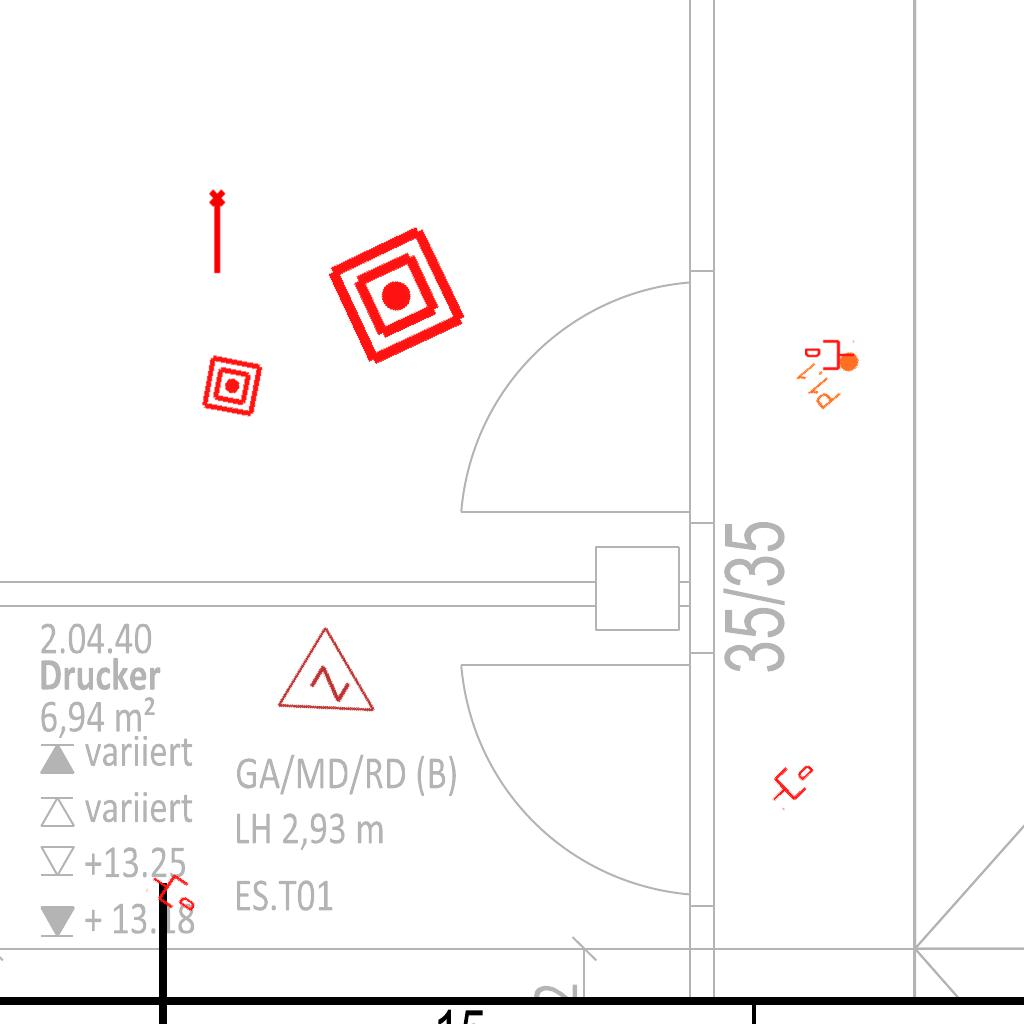ASR_Ansaugoeffnung: (207, 188, 230, 276)
Datenanschluss_einfach: (761, 753, 821, 813), (143, 863, 205, 921), (805, 338, 855, 372)
Downlight_LED_Einbauleuchten_Flur: (792, 335, 872, 413)
NAM-Nichtautomatischer_Melder: (321, 220, 472, 371), (199, 353, 265, 419)
Zimmersignalleuchte: (269, 619, 407, 755)
